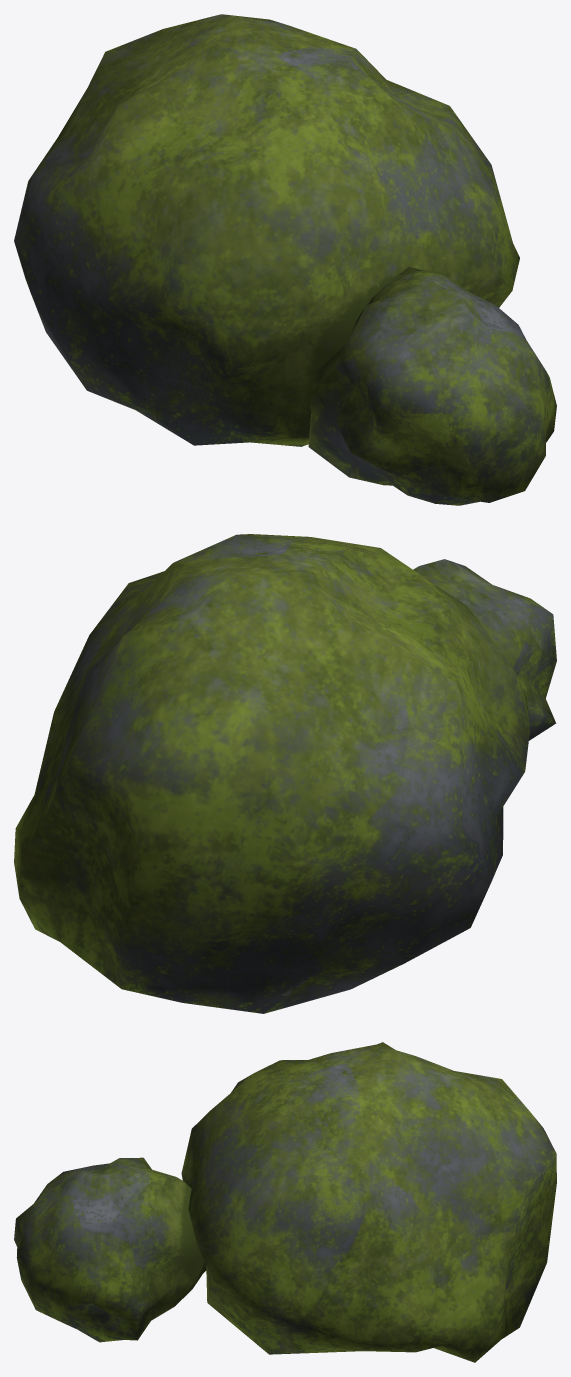
The model's file is Batu5.fbx.
3 views of the same model, one above another, from view 1: azimuth 30°, elevation 25°; view 2: azimuth 150°, elevation 25°; view 3: azimuth 270°, elevation 25° (orthographic). The views are drawn at different scales.
Parts seen in each view (by area): view 1: Batu5.2; view 2: Batu5.2; view 3: Batu5.2.
Part boxes in pixels (x1,y1,x2,y2): Batu5.2: (14,14,556,505); Batu5.2: (14,534,556,1013); Batu5.2: (14,1042,556,1362).
Size of the model in its own units: 112 by 95.75 by 167.
1 material, 1 textured.
